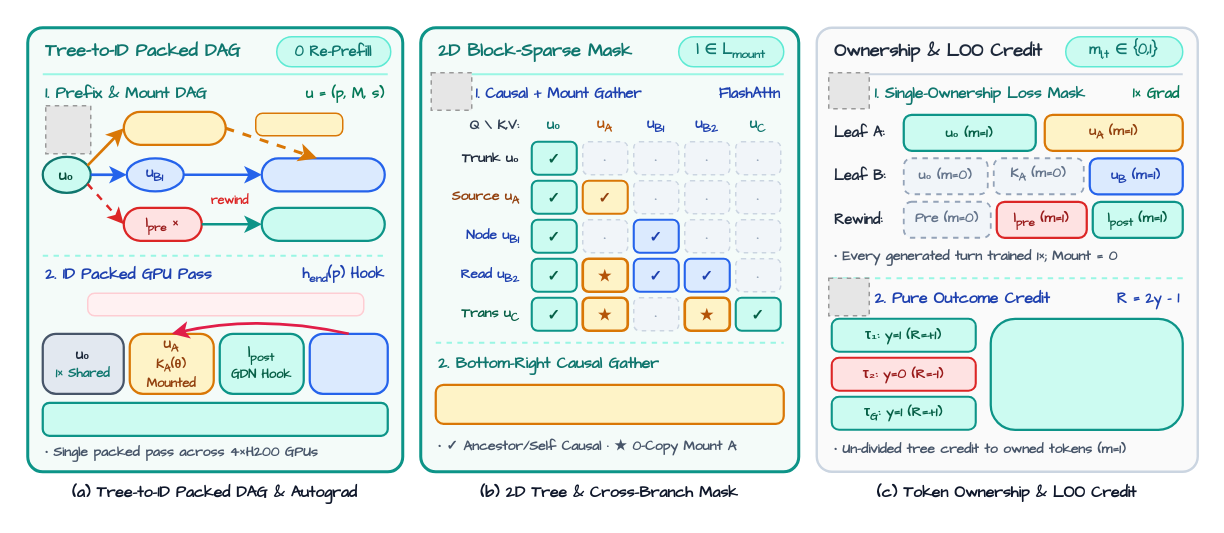
The diagram is 1224 pixels wide and 533 high, and some of its shapes have lost their labels. Grey dashed boxes stand in for pictures. The shapes that lost their labels are listed below. From the top down, each one's centre as x and y in pixels, then its label:
pixel 174 127: u A (Src)
pixel 298 124: Mount K A
pixel 322 174: u B2 (Read)
pixel 322 223: l post (Hook)
pixel 225 304: On-Policy Mount Edge (KL = 4.45e−4)
pixel 348 363: u B2 Mounts K A
pixel 1086 373: LOO Advantage Â(τ i ) = R i − μ −i Broadcast to m=1
pixel 214 418: |Δ log π θ | = 0.0038 Rollout Match · 8.1× Tok
pixel 609 403: K u = [ ⊕ K m (Mount) ∥ K p(u) ∥ K self(u) ]
